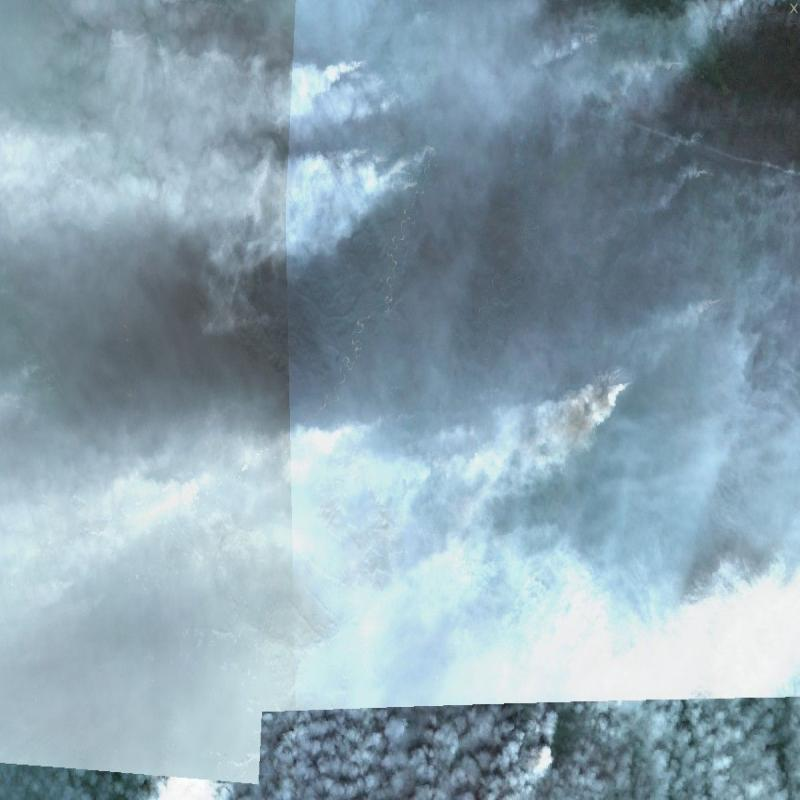fire: (341, 51, 438, 209), (585, 358, 635, 429), (698, 277, 728, 321)
